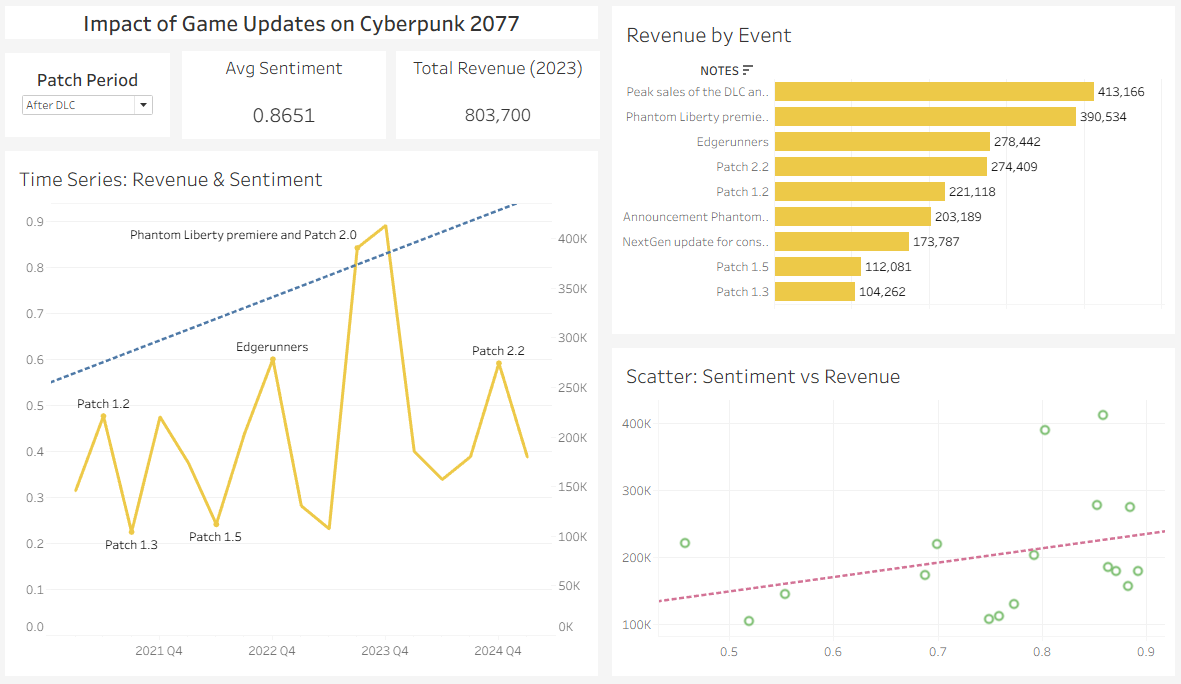

What the dashboard file says about the page in this screenshot:
{"tool":"tableau","page":{"name":"Impact of Game Updates on Cyberpunk 2077","canvas":[1200,700],"ordinal":0},"visuals":[{"type":"title","box":[8,8,607,46.8]},{"type":"worksheet","title":"Revenue by Event","mark":"Bar","rows":["NOTES"],"cols":["TOTAL_REVENUE"],"box":[615,8,577,342]},{"type":"filter","title":"Avg Sentiment Before and After Phantom Liberty","param":"[federated.107zhbb1bfoy4l1bbpx9i14qnr5k].[none:Calculation_1507861481755734016:n","box":[8,54.8,179,98]},{"type":"worksheet","title":"Avg Sentiment Before and After Phantom Liberty","mark":"Automatic","box":[187,54.8,214,98]},{"type":"worksheet","title":"Total Revenue (2023)","mark":"Automatic","box":[401,54.8,214,98]},{"type":"worksheet","title":"Time Series: Revenue & Sentimen","mark":"Line","rows":["AVG_SENTIMENT","TOTAL_REVENUE"],"cols":["QUARTER_START (SENTIMENT_BY_QUARTER)"],"box":[8,152.8,607,539.2]},{"type":"worksheet","title":"Scatter: Sentiment vs Revenue","mark":"Shape","rows":["TOTAL_REVENUE"],"cols":["AVG_SENTIMENT"],"box":[615,350,577,342]}]}

Visuals, with their boxes in screenshot pixels (x1, y1, x2, y2), scaled from the page's 1200x700 canvas onto the 1181x684 screenshot:
title: <region>8, 8, 605, 54</region>
"Revenue by Event" worksheet (Bar marks): <region>605, 8, 1173, 342</region>
"Avg Sentiment Before and After Phantom Liberty" filter: <region>8, 54, 184, 149</region>
"Avg Sentiment Before and After Phantom Liberty" worksheet: <region>184, 54, 395, 149</region>
"Total Revenue (2023)" worksheet: <region>395, 54, 605, 149</region>
"Time Series: Revenue & Sentimen" worksheet (Line marks): <region>8, 149, 605, 676</region>
"Scatter: Sentiment vs Revenue" worksheet (Shape marks): <region>605, 342, 1173, 676</region>
